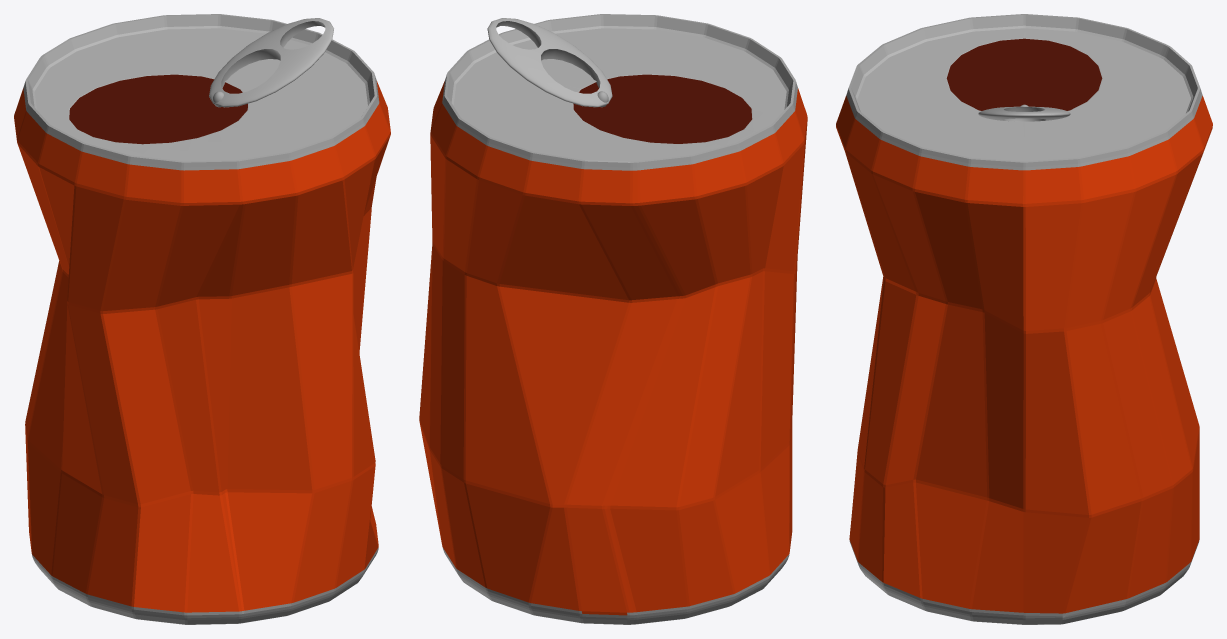
File: red_can.fbx
3 views of the same model, side by side, from view 1: azimuth 30°, elevation 25°; view 2: azimuth 150°, elevation 25°; view 3: azimuth 270°, elevation 25° (orthographic).
Parts seen in each view (by area): view 1: pDisc2; view 2: pDisc2; view 3: pDisc2.
Boxes of the visible parts, box(x1,y1,x2,y2) form: pDisc2: box(14, 14, 390, 624); pDisc2: box(419, 14, 807, 624); pDisc2: box(836, 14, 1212, 624).
Bounding box in the file's own units: 2.38 × 3.43 × 2.34.
